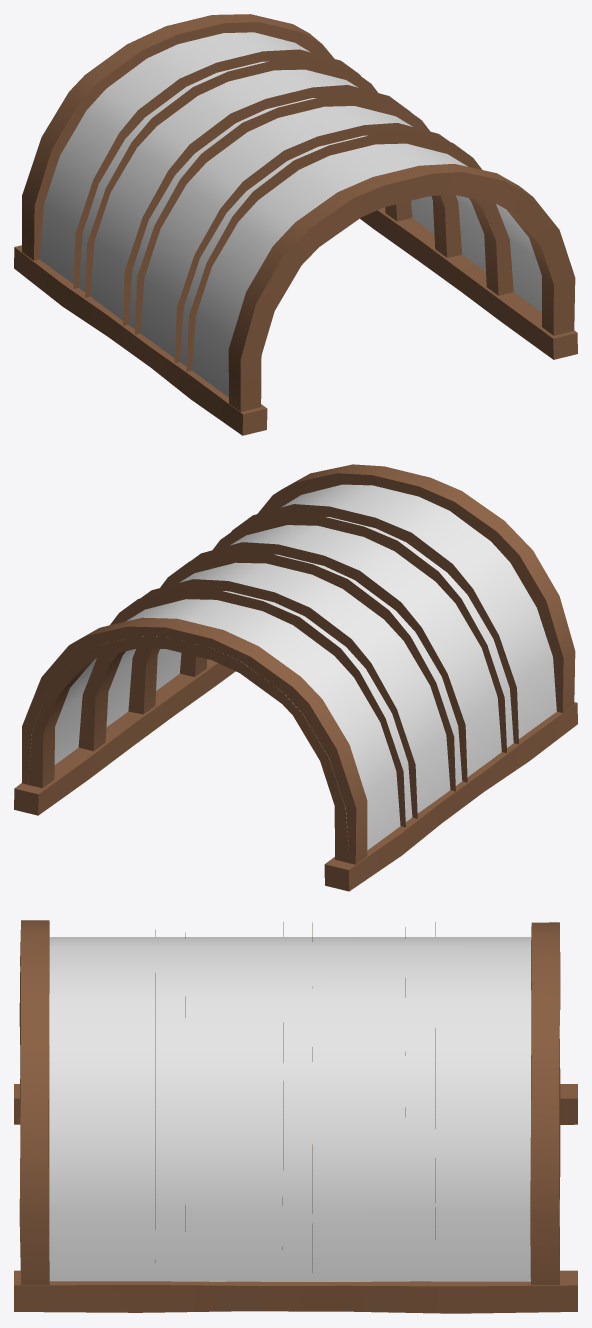
File: TunnelCeiling.fbx
3 renders of one model, top to bottom at view 1: azimuth 30°, elevation 25°; view 2: azimuth 150°, elevation 25°; view 3: azimuth 270°, elevation 25°, orthographic. The views are drawn at different scales.
Parts seen in each view (by area): view 1: ArchCeiling; view 2: ArchCeiling; view 3: ArchCeiling.
Boxes of the visible parts, x1=… form: ArchCeiling: x1=14, y1=14, x2=577, y2=435; ArchCeiling: x1=14, y1=464, x2=577, y2=891; ArchCeiling: x1=14, y1=920, x2=577, y2=1313.
Size of the model in its own units: 184 by 111 by 215.
